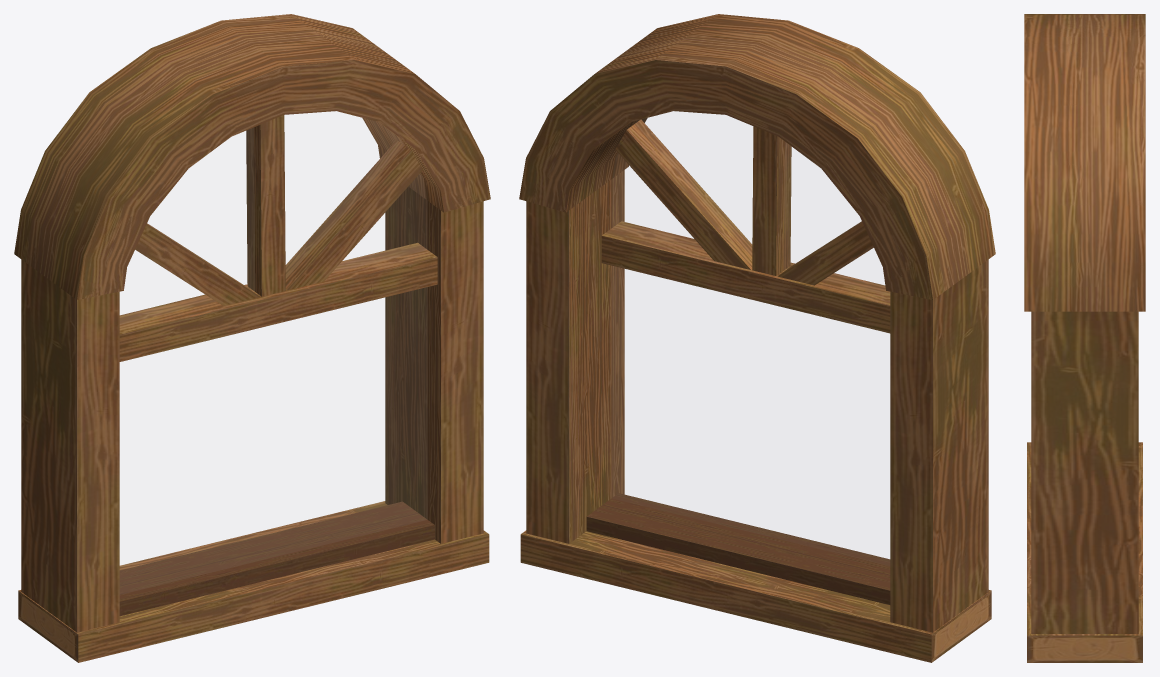
The model's file is Window_Wide_Round2.gltf.
The picture shows the model from 3 angles, left to right: view 1: azimuth 30°, elevation 25°; view 2: azimuth 150°, elevation 25°; view 3: azimuth 270°, elevation 25°; orthographic projection. The views are drawn at different scales.
Parts seen in each view (by area): view 1: Window_Wide_Round2; view 2: Window_Wide_Round2; view 3: Window_Wide_Round2.
Part boxes in pixels (bbox=[...]): Window_Wide_Round2: bbox=[14, 14, 490, 662]; Window_Wide_Round2: bbox=[519, 14, 995, 662]; Window_Wide_Round2: bbox=[1024, 14, 1145, 662].
Size of the model in its own units: 1.36 by 1.73 by 0.3591.
2 materials, 1 textured.
